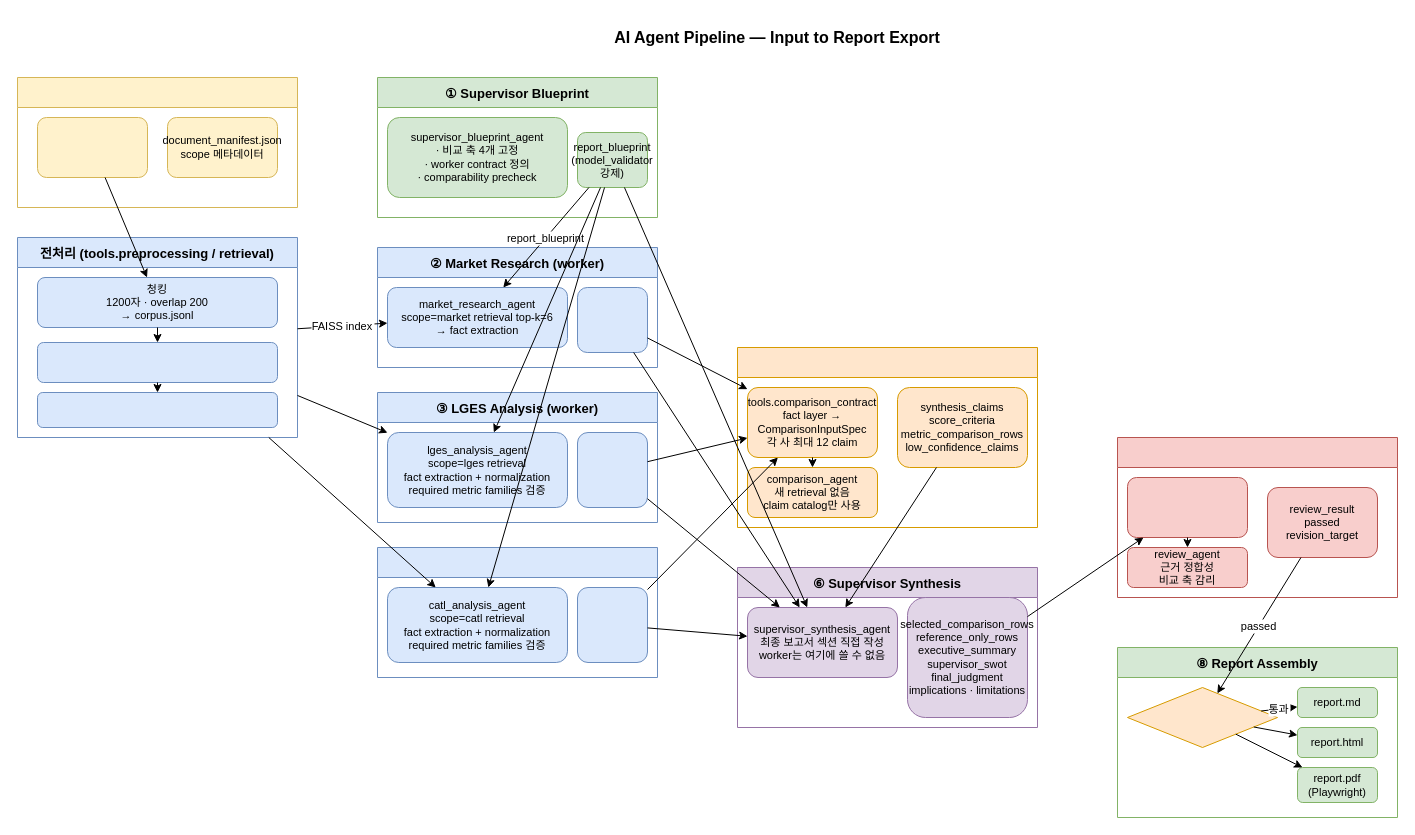
Image size: 1415x835. Some labels were removed from this diagram. The shapes that lost their labels are listed below. From the top down, each one's box as (x1, y1, x2, y2) in pixels, then its label:
(36, 116, 148, 178): 📄 PDF 문서셋 data/raw/*.pdf
(16, 76, 298, 208): 입력
(576, 286, 648, 352): market_facts market_context market_context_summary
(36, 342, 278, 382): 임베딩 intfloat/multilingual-e5-large
(36, 392, 278, 428): FAISS index data/index/faiss.index
(736, 346, 1038, 528): ⑤ Comparison (worker)
(576, 432, 648, 508): lges_facts lges_profile lges_normalized_metrics profitability_rows
(1126, 476, 1248, 538): tools.reporting build_report_spec → ReportSpec
(1116, 436, 1398, 598): ⑦ Review
(376, 546, 658, 678): ④ CATL Analysis (worker)
(576, 586, 648, 662): catl_facts catl_profile catl_normalized_metrics profitability_rows
(1126, 686, 1278, 748): validate_final_delivery_state hard gate
